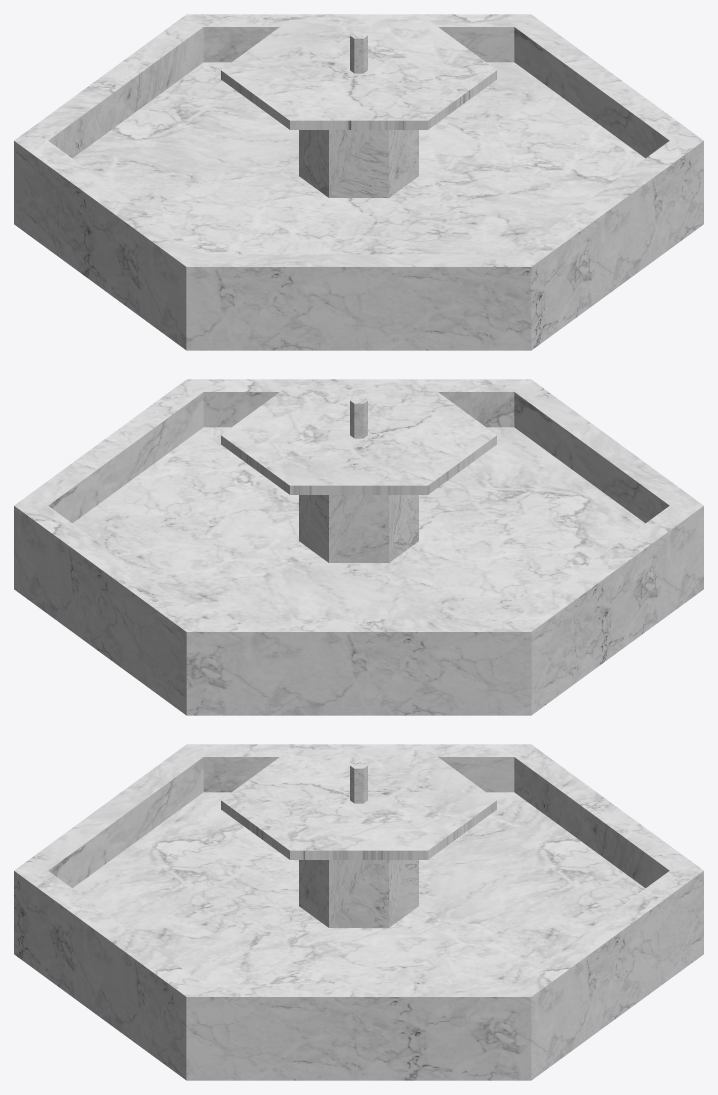
File: ELFONTE.fbx
The picture shows the model from 3 angles, top to bottom: view 1: azimuth 30°, elevation 25°; view 2: azimuth 150°, elevation 25°; view 3: azimuth 270°, elevation 25°; orthographic projection.
Parts seen in each view (by area): view 1: Cylinder.004; view 2: Cylinder.004; view 3: Cylinder.004.
Part boxes in pixels (box(x1,y1,x2,y2)): Cylinder.004: box(14, 14, 703, 350); Cylinder.004: box(14, 379, 703, 715); Cylinder.004: box(14, 744, 703, 1080).
Bounding box in the file's own units: 654 × 228 × 755.
